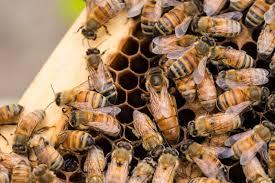Queen-Bee: (137, 65, 187, 146)
worker-bee: (164, 39, 226, 80), (75, 0, 131, 41), (78, 50, 121, 102), (228, 119, 275, 164), (187, 135, 230, 183), (70, 106, 129, 137), (186, 113, 244, 140), (206, 38, 260, 67), (53, 89, 116, 111), (189, 15, 248, 38), (213, 86, 267, 111), (211, 67, 275, 86), (109, 137, 134, 183), (257, 4, 275, 62), (156, 144, 182, 183)
